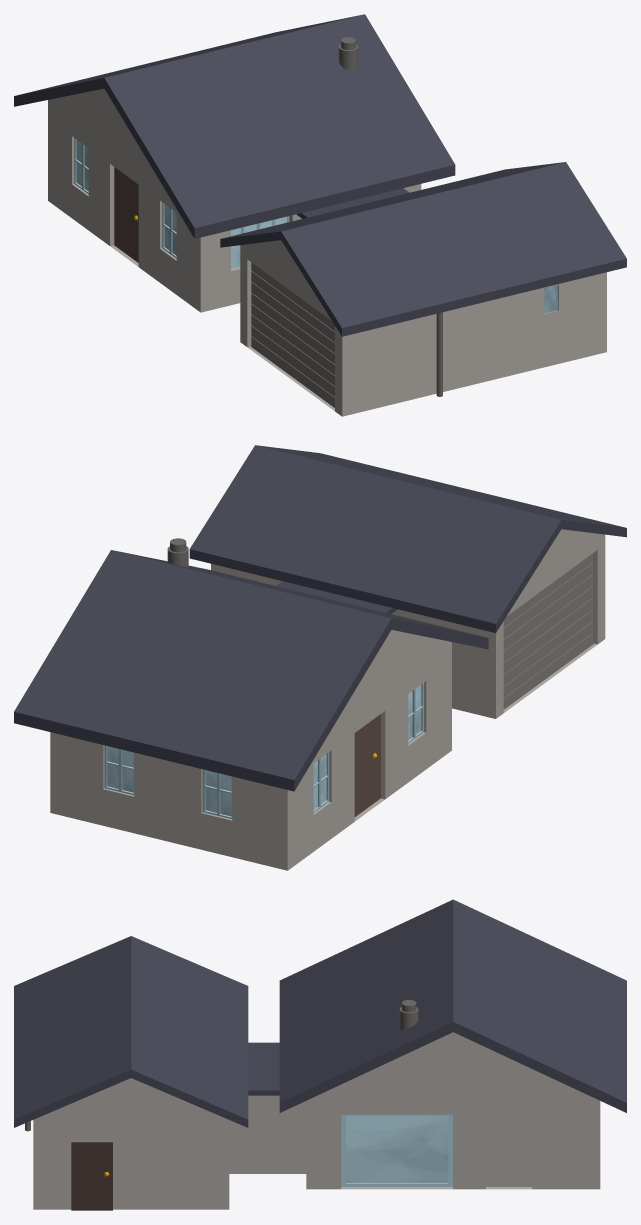
Rendered from TPCS_House_004_V1.fbx.
The picture shows the model from 3 angles, top to bottom: view 1: azimuth 30°, elevation 25°; view 2: azimuth 150°, elevation 25°; view 3: azimuth 270°, elevation 25°; orthographic projection. The views are drawn at different scales.
Parts seen in each view (by area): view 1: Cube.093; view 2: Cube.093; view 3: Cube.093.
Boxes of the visible parts, x1=… form: Cube.093: x1=14, y1=14, x2=626, y2=416; Cube.093: x1=14, y1=445, x2=626, y2=870; Cube.093: x1=14, y1=899, x2=626, y2=1210.
Bounding box in the file's own units: 667 × 399 × 1251.
